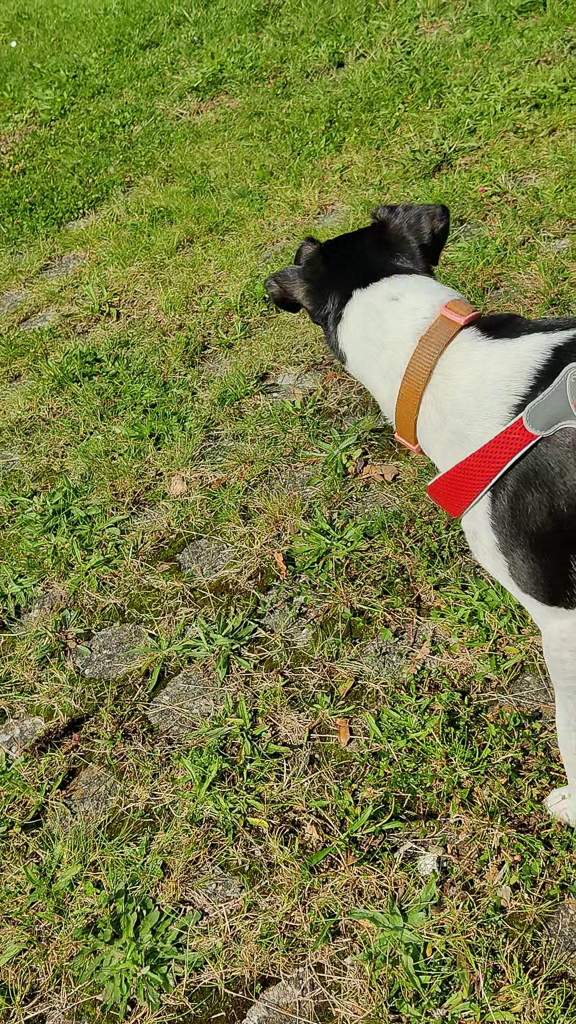Dog: (247, 186, 576, 857)
